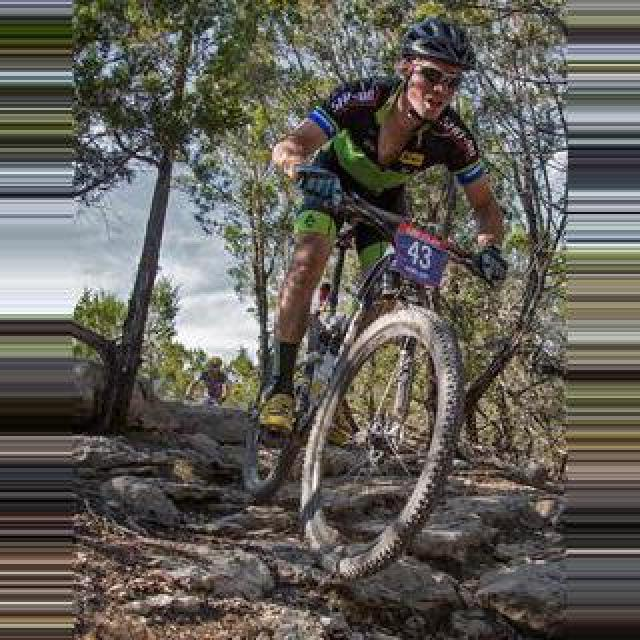MC-Bike: (242, 26, 514, 586)
Person: (236, 155, 504, 585)
